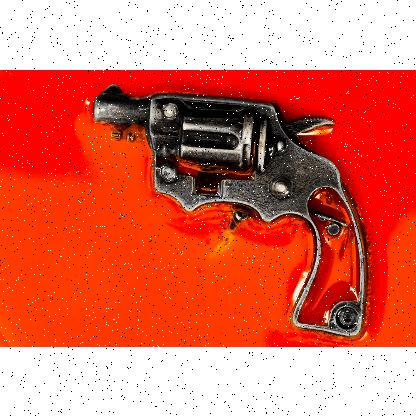gun: (91, 82, 369, 343)
